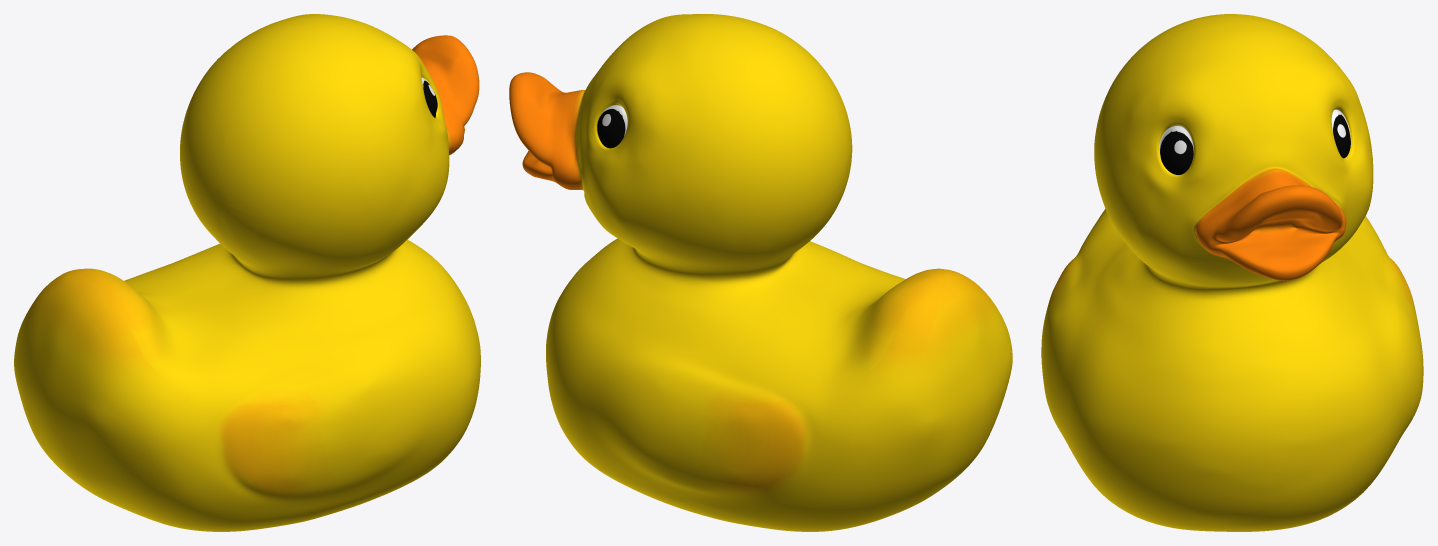
File: duck.glb
3 views of the same model, side by side, from view 1: azimuth 30°, elevation 25°; view 2: azimuth 150°, elevation 25°; view 3: azimuth 270°, elevation 25° (orthographic). The views are drawn at different scales.
Visible parts, largest first — view 1: LOD3spShape; view 2: LOD3spShape; view 3: LOD3spShape.
Part boxes in pixels (x1,y1,x2,y2): LOD3spShape: [14, 14, 480, 531]; LOD3spShape: [509, 14, 1012, 531]; LOD3spShape: [1041, 14, 1423, 531].
Size of the model in its own units: 1.65 by 1.53 by 1.15.
Materials: 1 (1 with a texture image).
